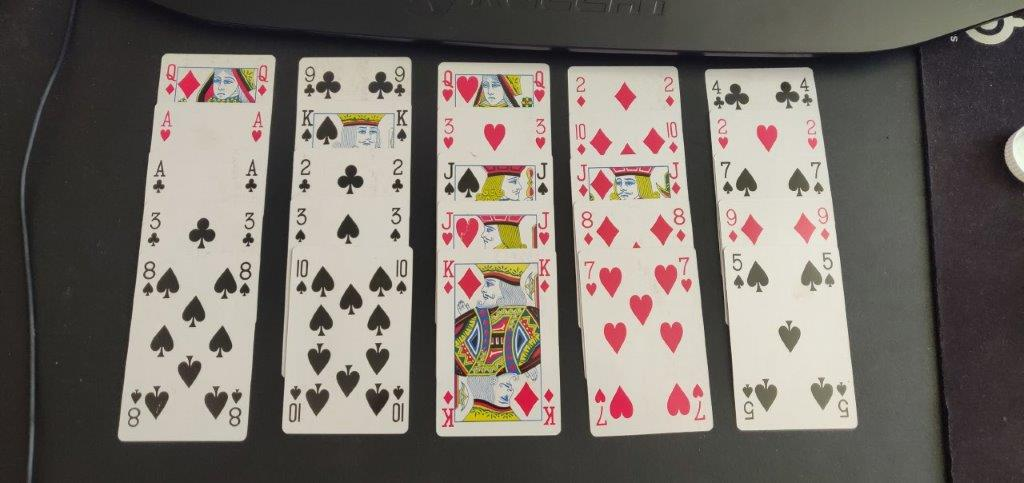10D: (663, 120, 683, 155), (573, 122, 591, 158)
10S: (292, 258, 310, 297), (393, 257, 410, 296)
2C: (297, 157, 314, 198), (389, 157, 405, 195)
2D: (573, 75, 591, 109), (661, 76, 679, 109)
2H: (715, 117, 733, 152), (803, 117, 821, 151)
3C: (145, 211, 164, 249), (239, 210, 256, 249)
3H: (439, 116, 457, 152), (533, 117, 548, 151)
3S: (388, 205, 403, 245), (294, 207, 309, 245)
4C: (797, 75, 816, 110), (708, 78, 728, 110)
5S: (821, 251, 839, 291), (730, 250, 746, 293)
7H: (580, 260, 600, 299), (676, 256, 696, 295)
7S: (809, 159, 827, 195), (719, 158, 735, 196)
8D: (579, 209, 597, 248), (671, 206, 689, 243)
8S: (237, 259, 254, 300), (141, 260, 156, 299)
9C: (391, 64, 409, 99), (302, 65, 317, 99)
9D: (815, 206, 834, 244), (724, 206, 741, 244)
AC: (151, 159, 170, 196), (244, 157, 261, 194)
AH: (157, 109, 175, 145), (248, 108, 266, 144)
JD: (573, 163, 591, 200), (667, 160, 683, 195)
JH: (439, 211, 456, 247), (536, 211, 552, 248)
JS: (440, 160, 458, 198), (533, 161, 551, 198)
KD: (536, 258, 554, 296), (440, 258, 457, 296)
KS: (393, 108, 411, 143), (299, 108, 316, 144)
QD: (256, 63, 272, 100), (162, 62, 178, 97)
QH: (439, 68, 456, 103), (533, 69, 547, 104)
